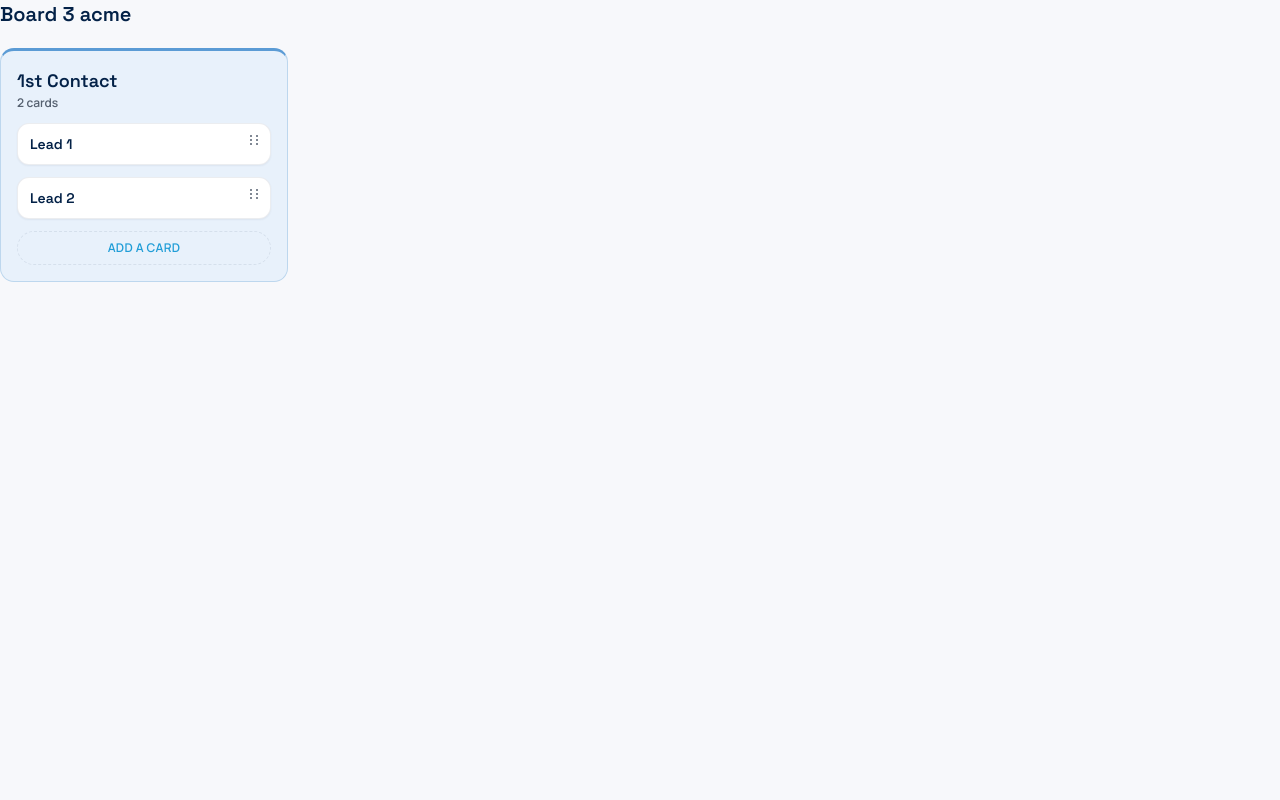
CentralBoardView card history › closing returns to the board untouched, also with Escape, and a late answer is ignored
Click the button "Lead 1". click: (144, 144)
box: x1=30 y1=134 x2=258 y2=154
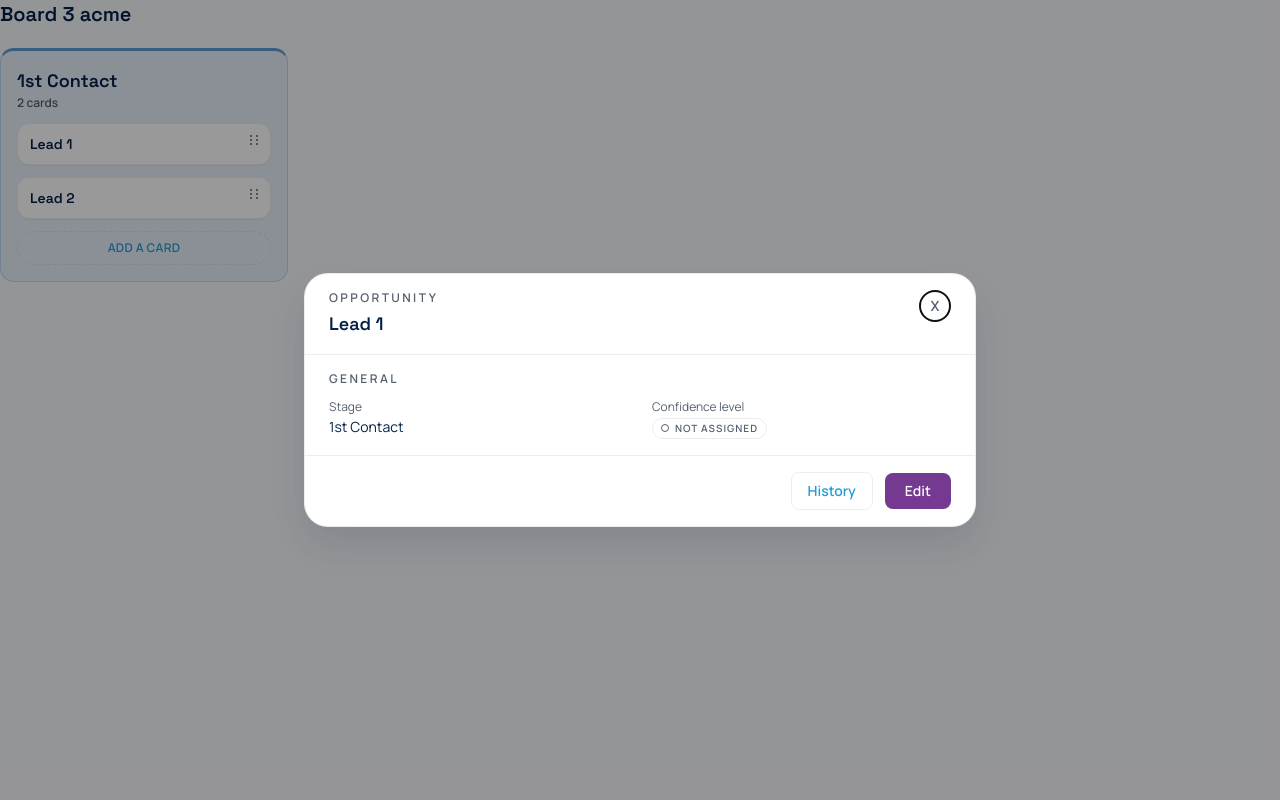
Click the button "History". click: (832, 491)
box: x1=791 y1=472 x2=873 y2=510
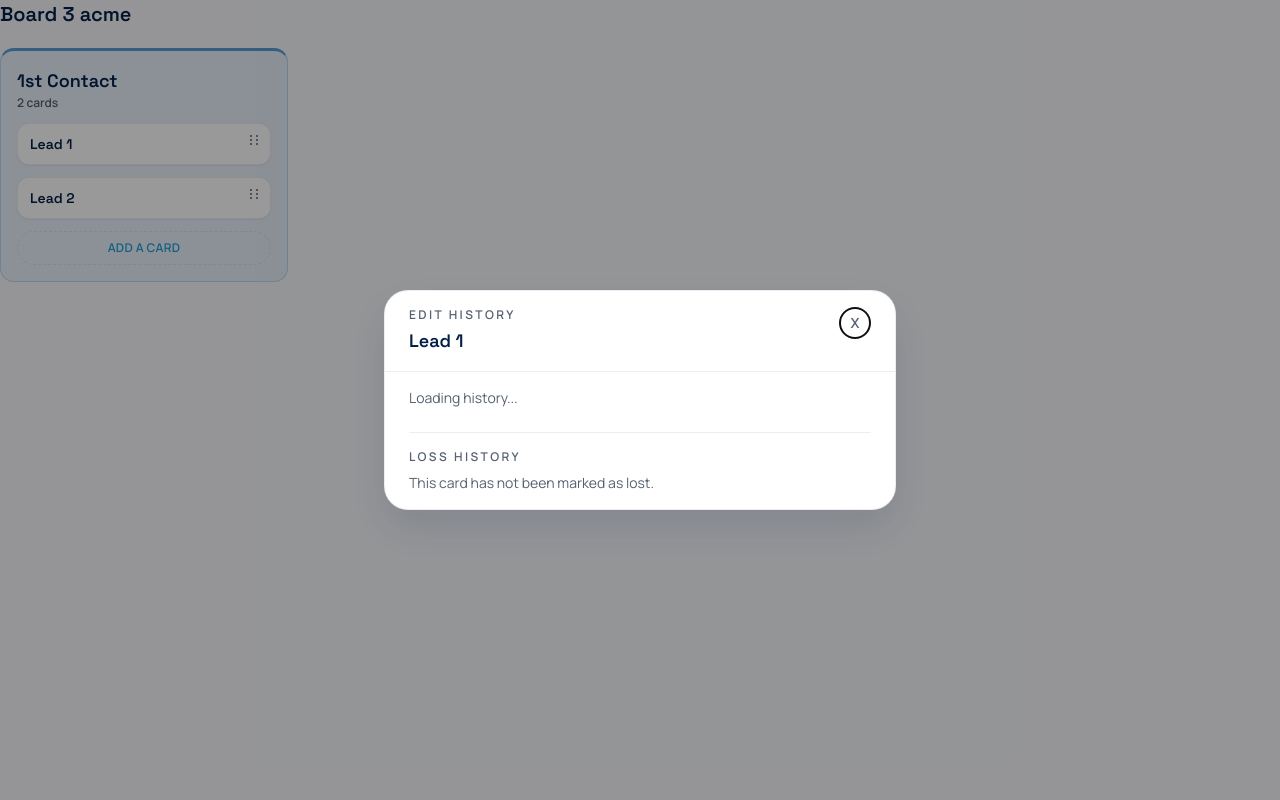
Now the text "Loading history..." is shown, box x1=409 y1=388 x2=518 y2=407
Press Escape
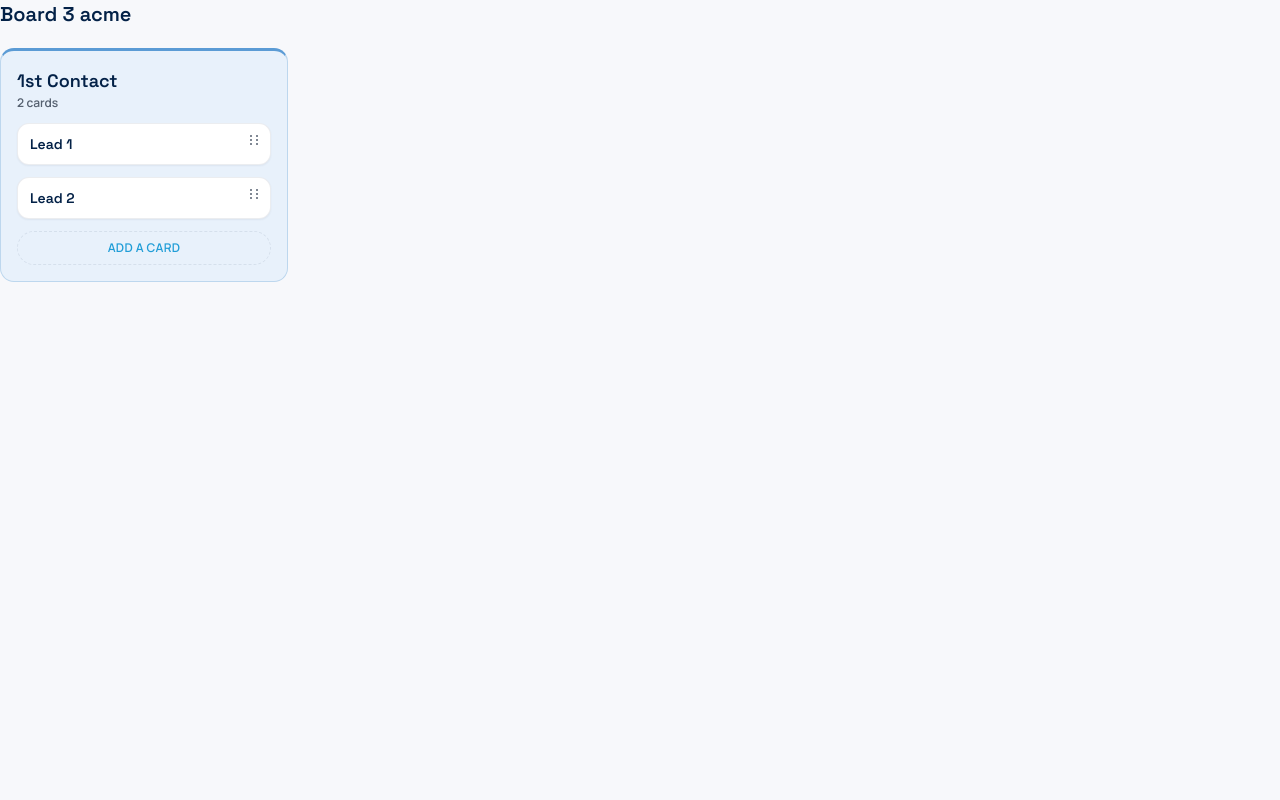
Now the dialog with test id "central-history" is gone
Click the button "Lead 2". click: (144, 198)
box: x1=30 y1=188 x2=258 y2=208
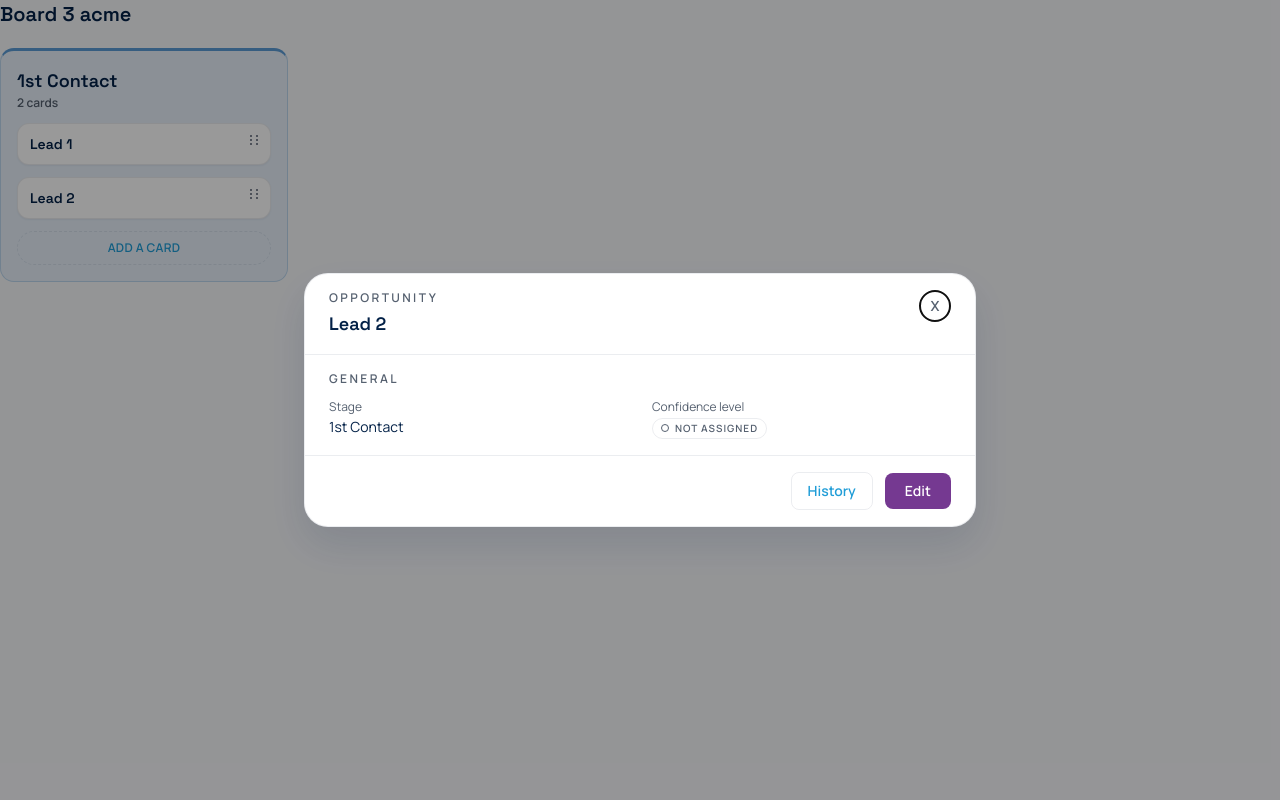
Click the button "History". click: (832, 491)
box: x1=791 y1=472 x2=873 y2=510
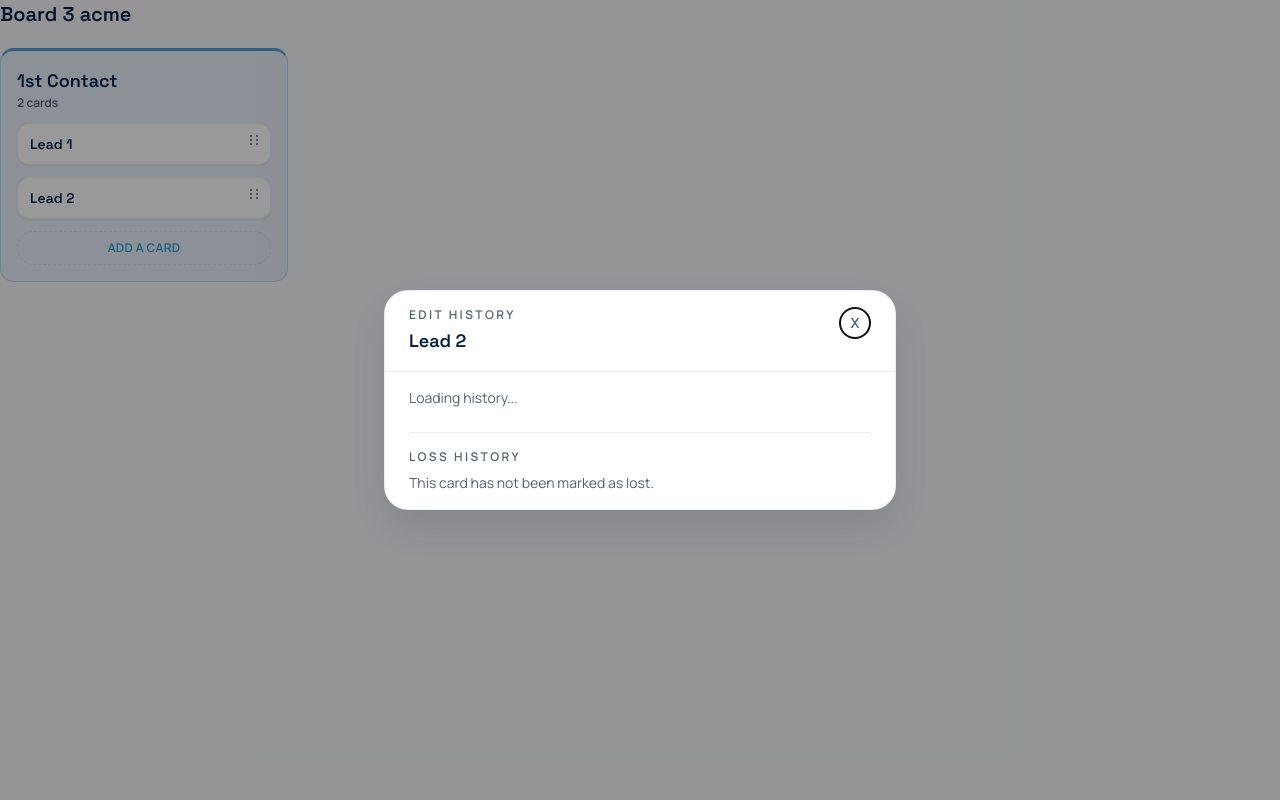
Click the button named "Close history". click: (855, 323)
box: x1=839 y1=307 x2=871 y2=339
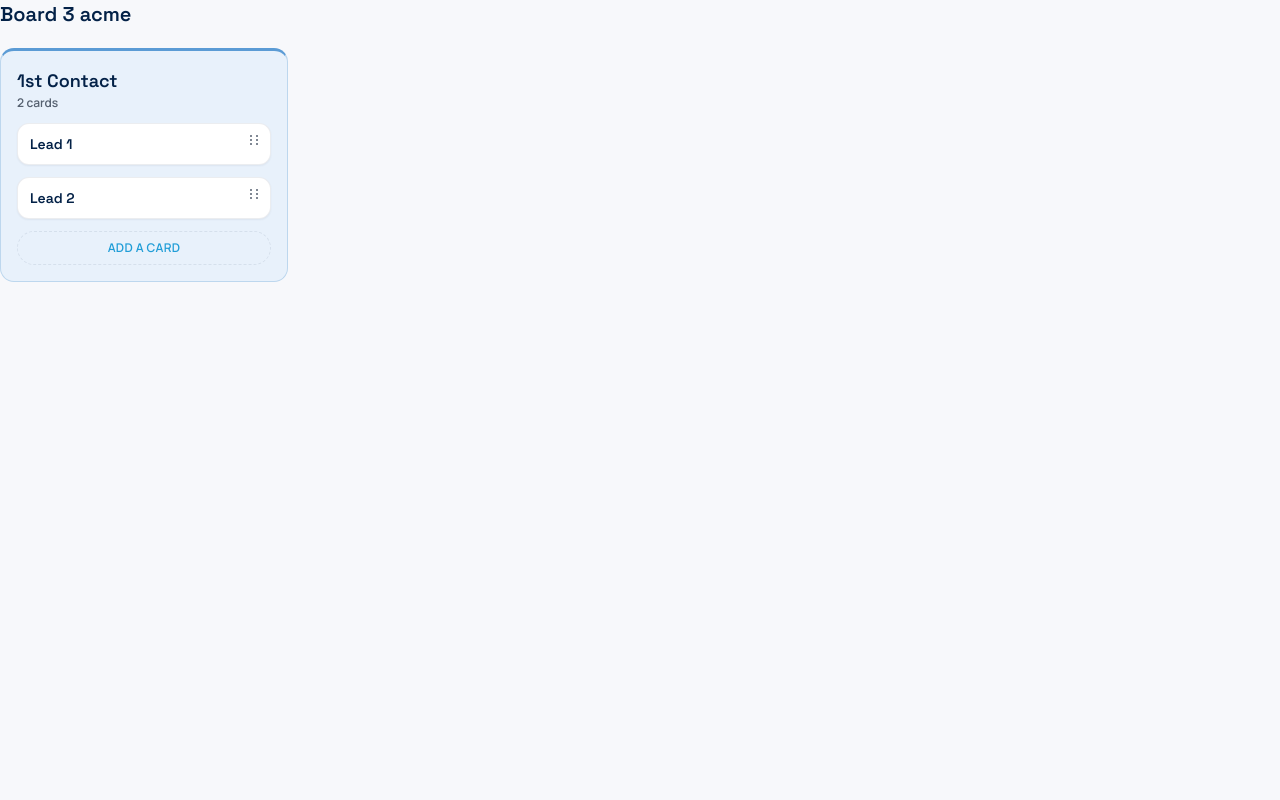
Now the dialog with test id "central-history" is gone
